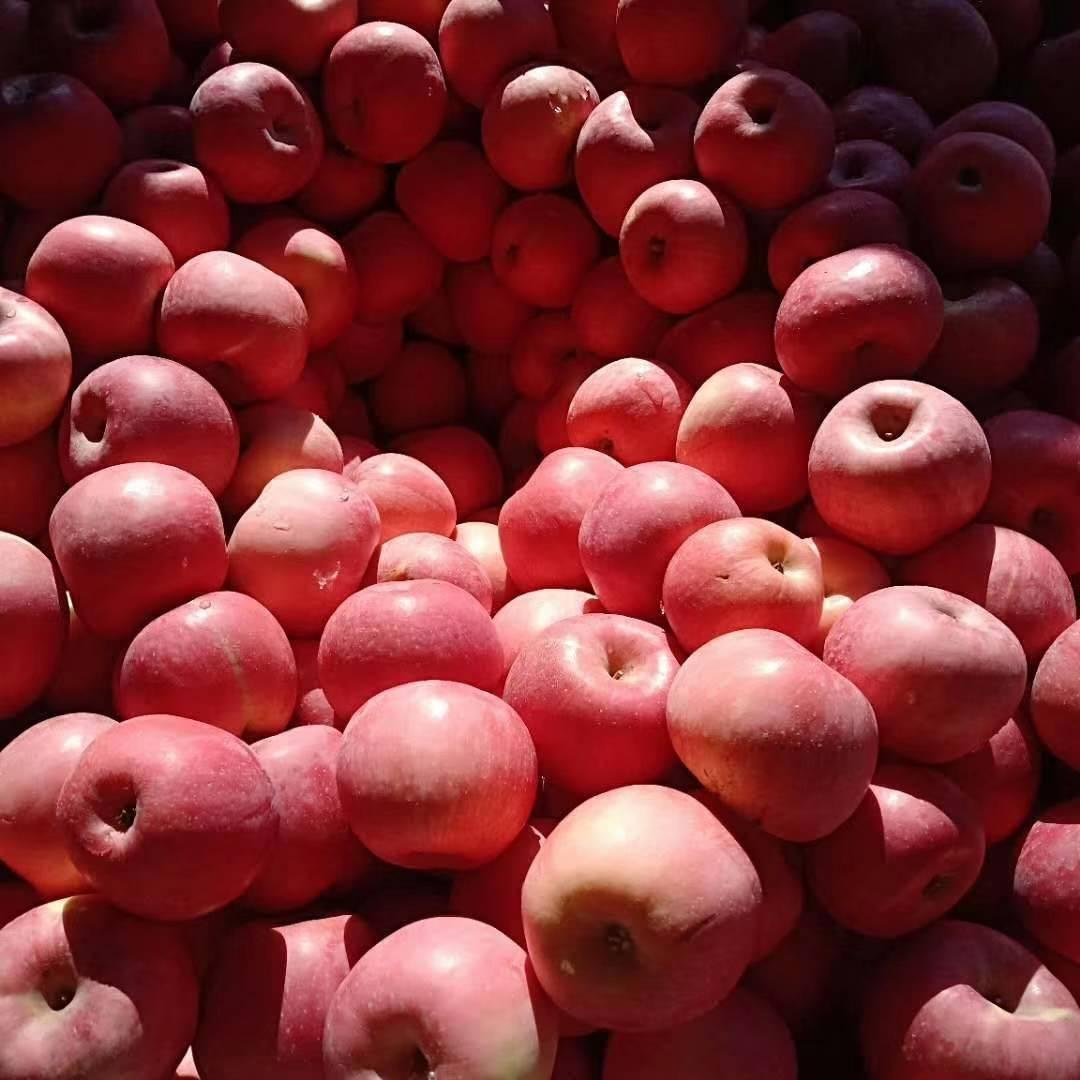apple: (517, 783, 778, 1033), (54, 709, 274, 919), (666, 629, 881, 841), (826, 580, 1028, 769), (342, 681, 538, 867), (325, 925, 547, 1080), (805, 374, 988, 549), (48, 462, 233, 635), (871, 917, 1076, 1073), (508, 613, 682, 789), (56, 357, 239, 496), (319, 579, 502, 718), (227, 464, 382, 621), (659, 516, 829, 659), (579, 462, 739, 609), (155, 250, 310, 395), (688, 65, 834, 211), (672, 362, 808, 515), (28, 212, 173, 350), (614, 176, 749, 320), (189, 63, 319, 202), (326, 22, 450, 163), (577, 84, 695, 225), (483, 62, 592, 193)
